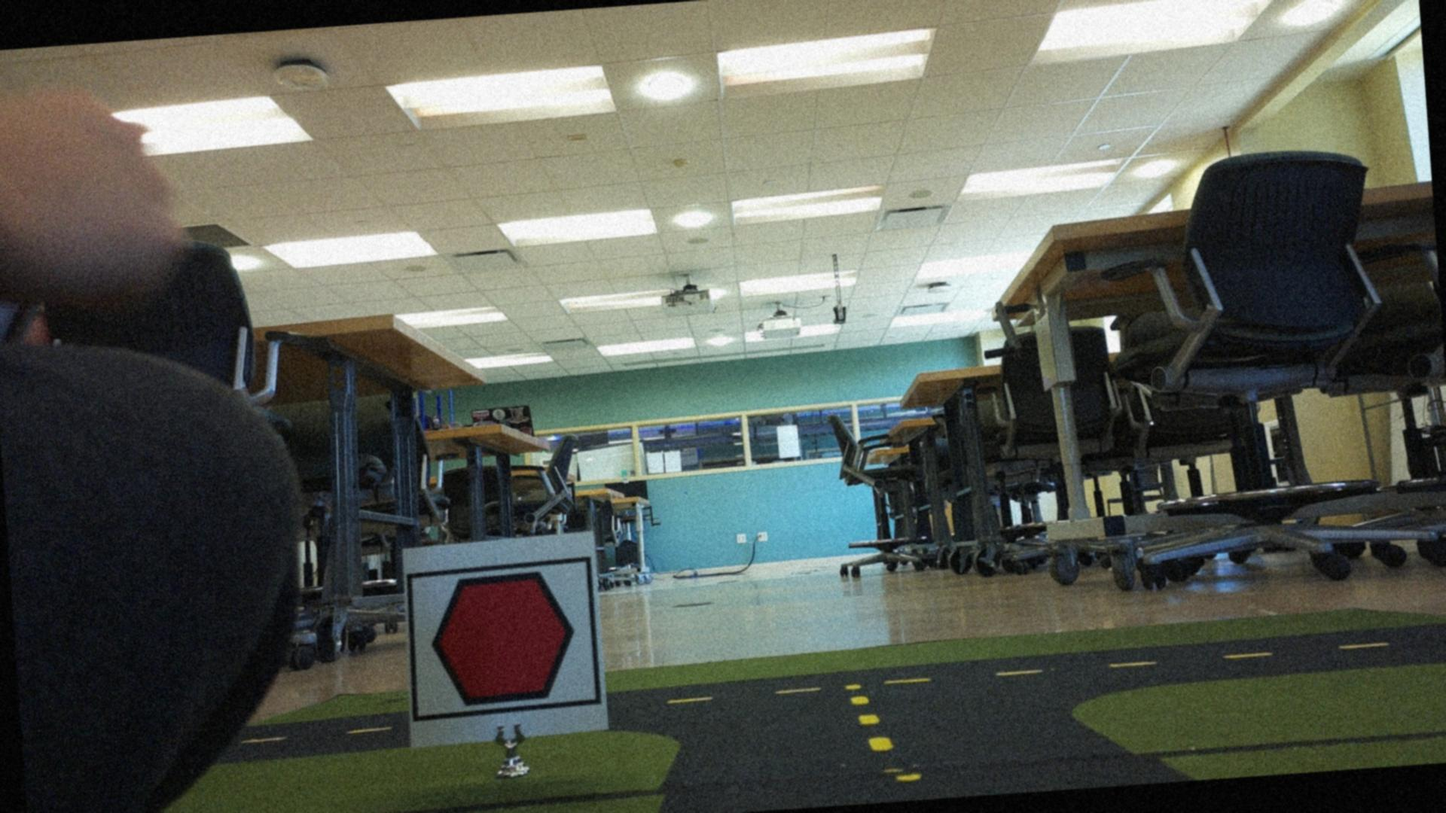stop: (416, 561, 592, 717)
yellowline: (850, 690, 920, 788)
